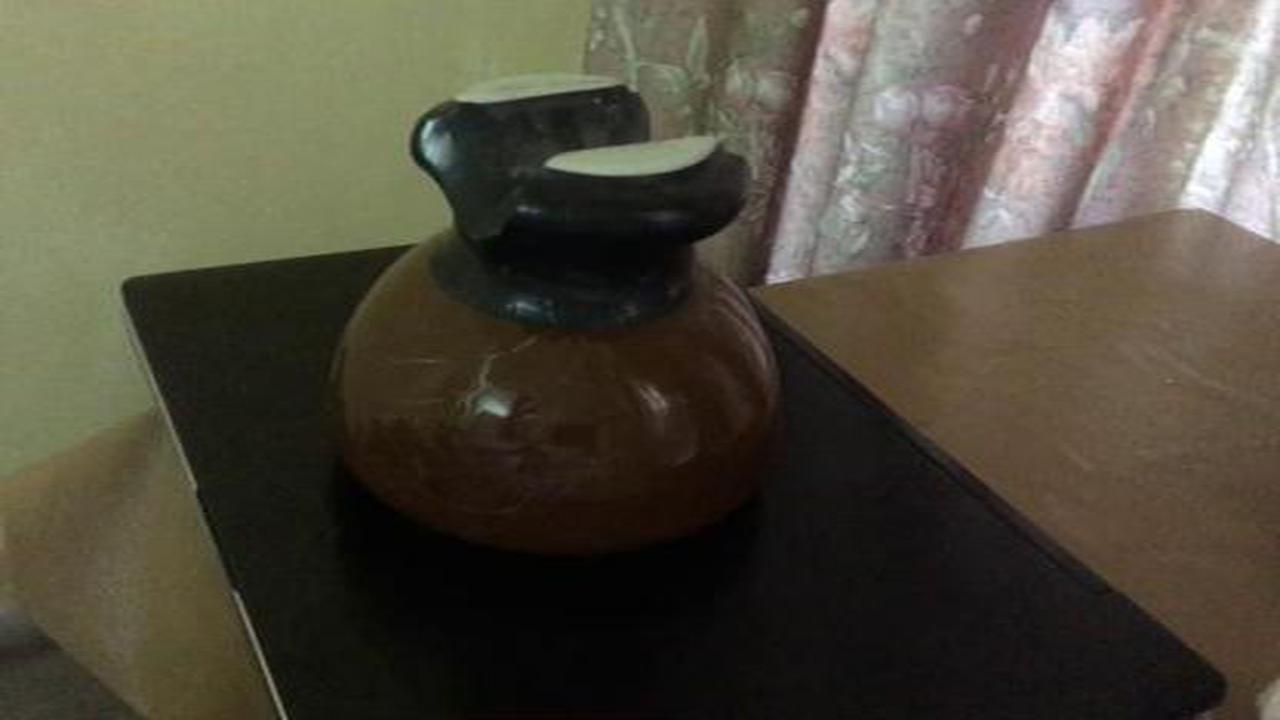insulator_pin: (307, 66, 816, 579)
